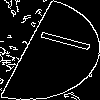I: (25, 25, 93, 54)
